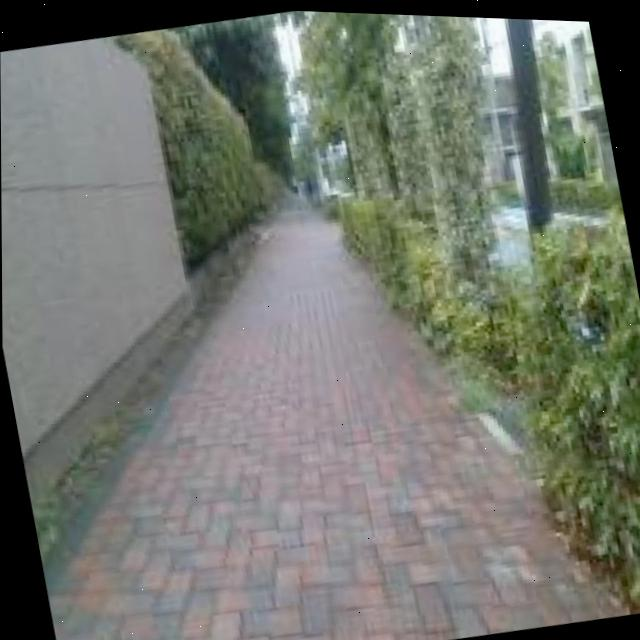Obstacle: (339, 12, 640, 609), (112, 28, 263, 264), (171, 12, 289, 182), (300, 9, 396, 192), (504, 15, 551, 228)
Sidewalk: (42, 207, 612, 640)
